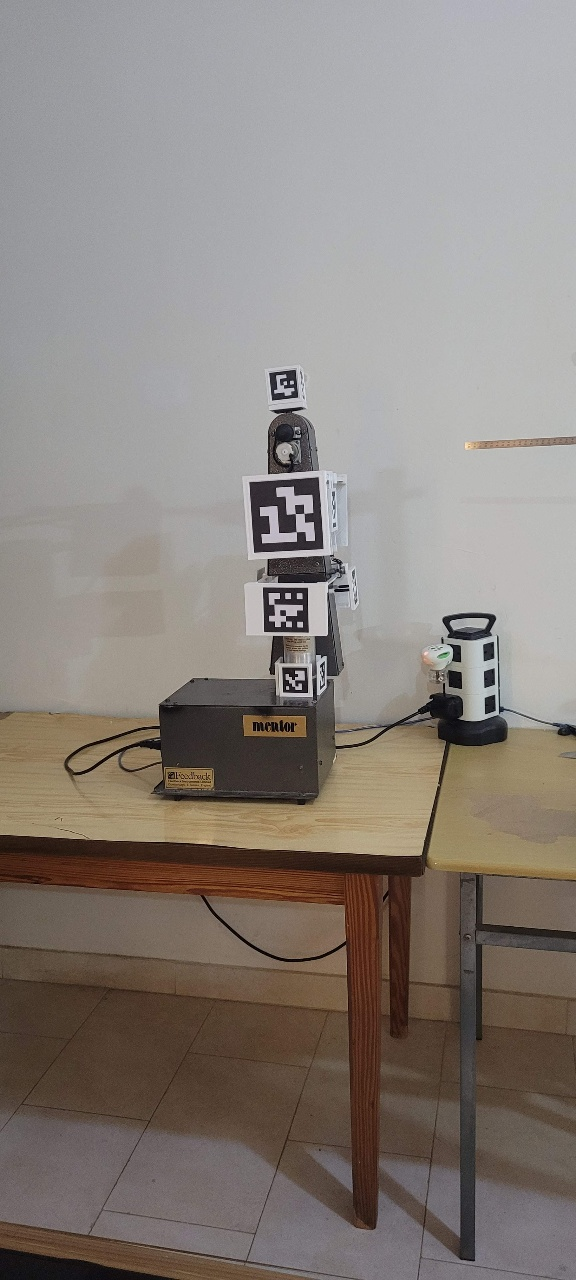Robot: (240, 363, 363, 701)
